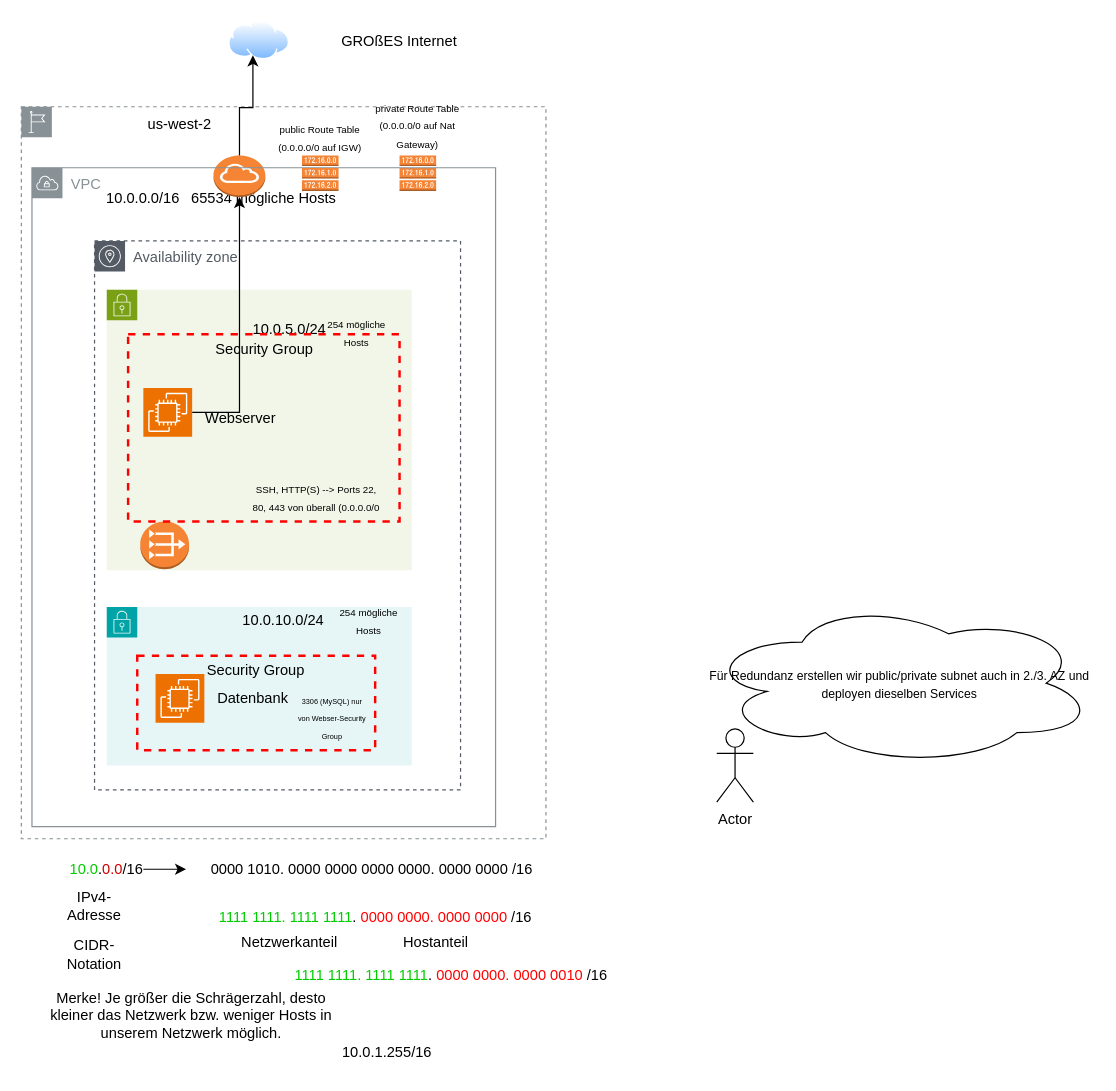
This 1116x1091 diagram has some shape labels left out. Here are the shapes that lost their labels. From the top down, the box of each, then its label:
(106, 289, 412, 570): Public subnet
(20, 106, 546, 839): Region
(106, 606, 412, 766): Private subnet
